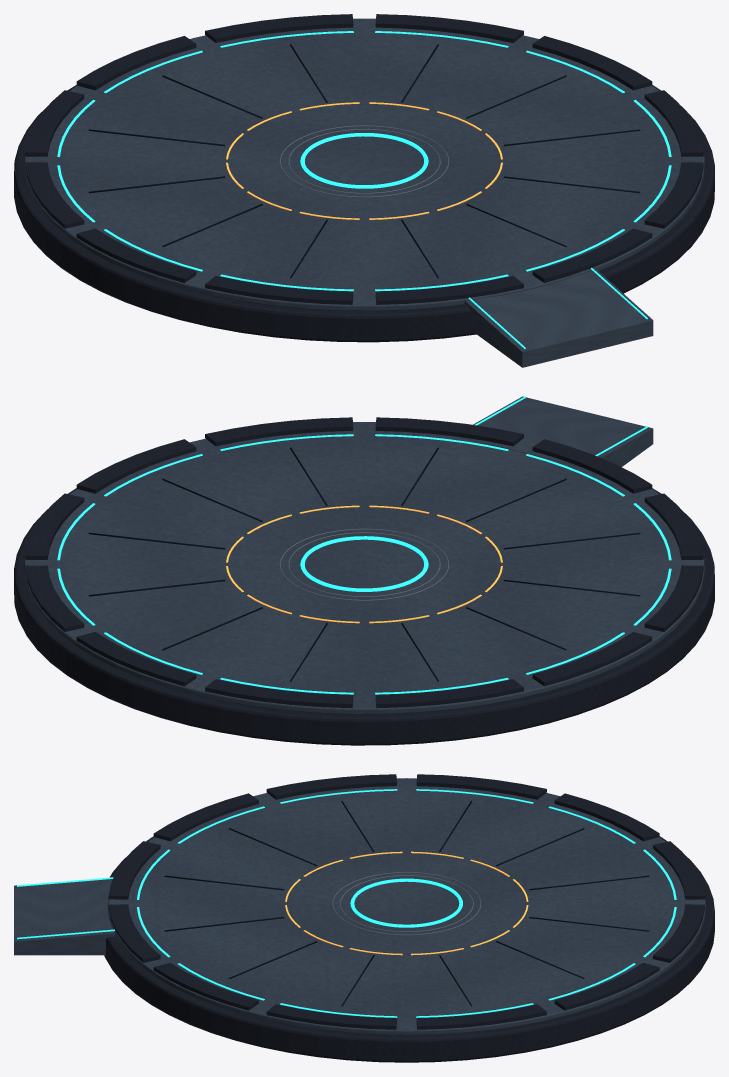
The model's file is ArenaPlatform.fbx.
3 views of the same model, one above another, from view 1: azimuth 30°, elevation 25°; view 2: azimuth 150°, elevation 25°; view 3: azimuth 270°, elevation 25° (orthographic). The views are drawn at different scales.
Visible parts, largest first — view 1: SM_ArenaPlatform; view 2: SM_ArenaPlatform; view 3: SM_ArenaPlatform.
Part boxes in pixels (x1=…): SM_ArenaPlatform: x1=14, y1=14, x2=714, y2=367; SM_ArenaPlatform: x1=14, y1=396, x2=714, y2=745; SM_ArenaPlatform: x1=14, y1=774, x2=714, y2=1062.
Bounding box in the file's own units: 2040 × 2320 × 122.
Materials: 1 (1 with a texture image).
